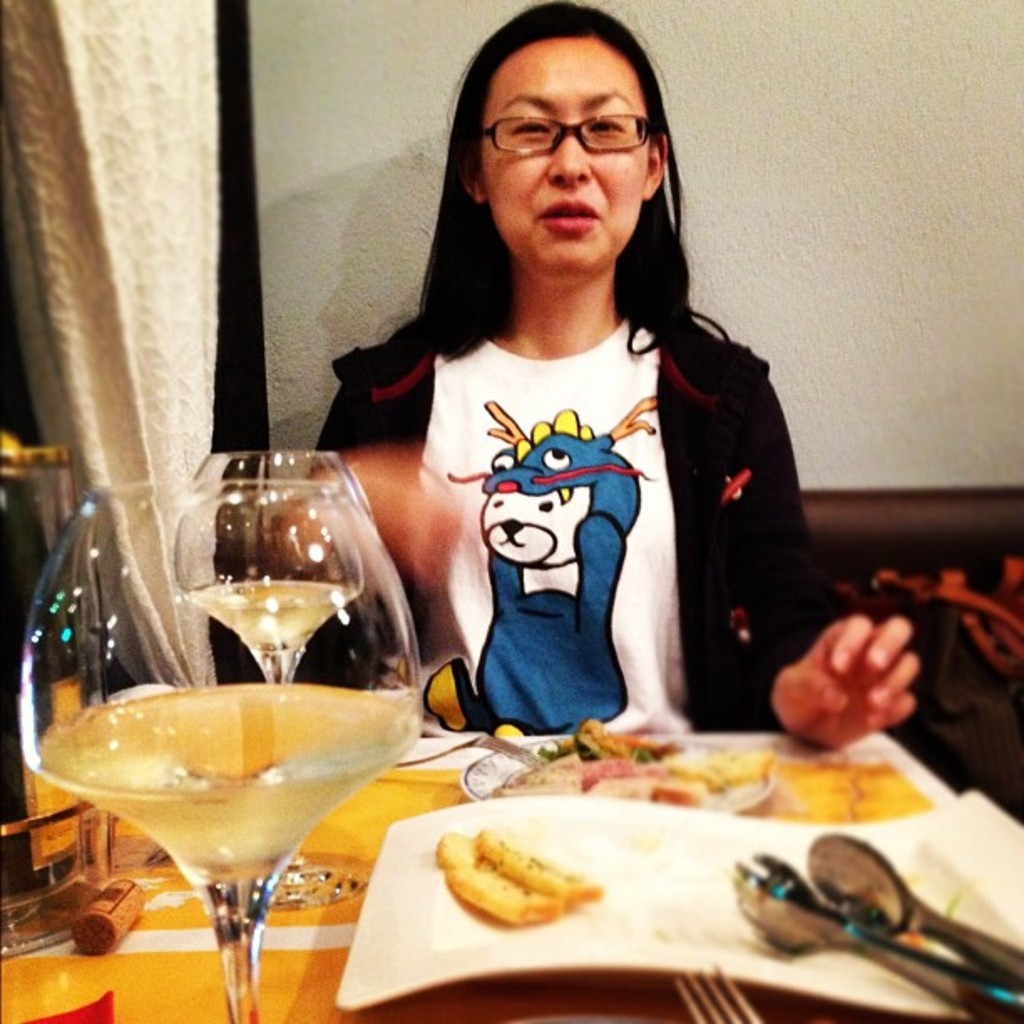French fries: (431, 811, 605, 928)
